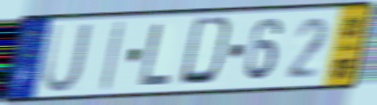2: (284, 15, 330, 82)
6: (244, 17, 284, 83)
D: (176, 14, 238, 90)
I: (98, 18, 127, 95)
L: (137, 21, 175, 88)
U: (40, 20, 95, 95)
